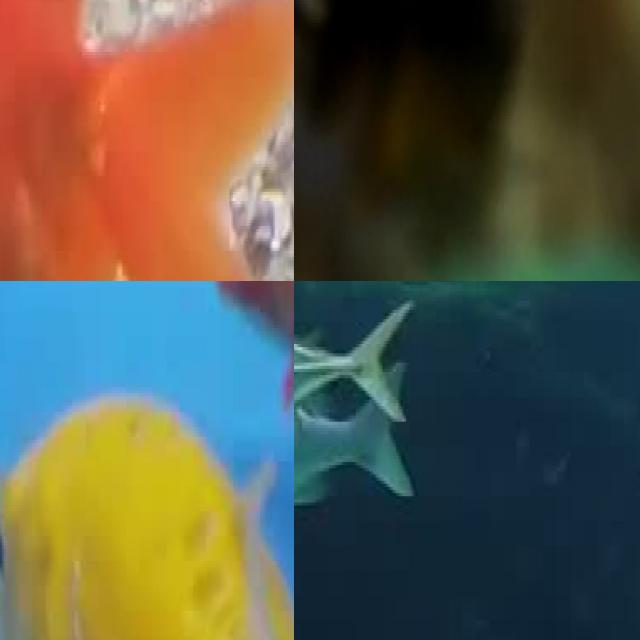fish: (0, 337, 294, 640), (0, 0, 294, 281)
